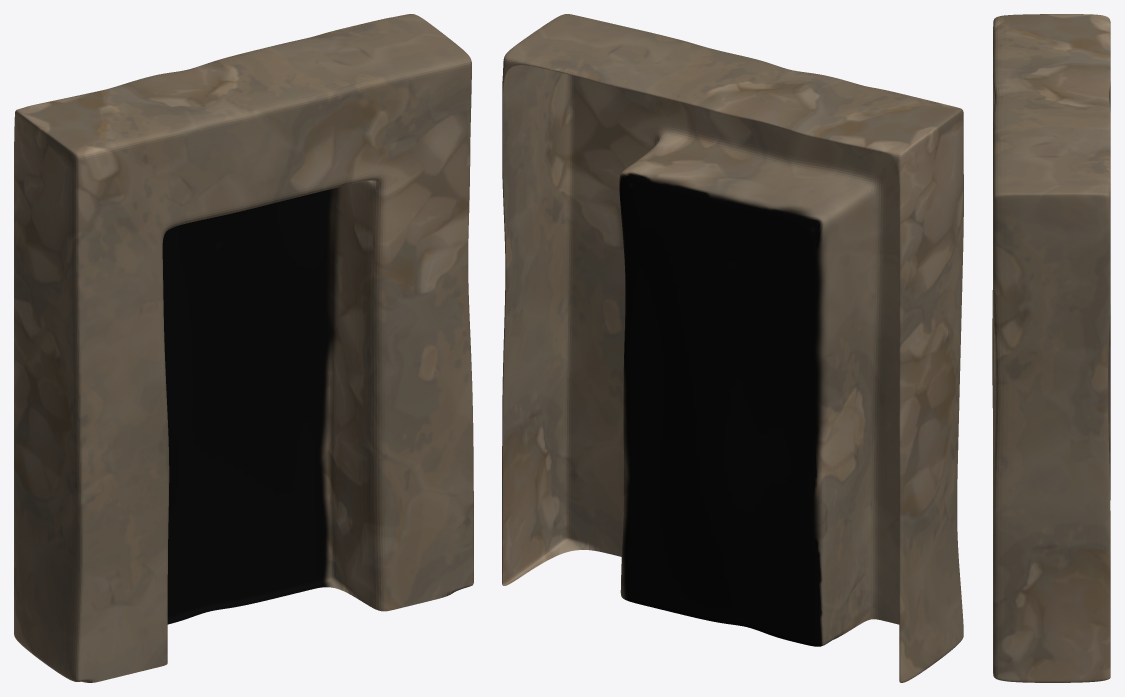
The model's file is Cadre_Porte.fbx.
3 views of the same model, side by side, from view 1: azimuth 30°, elevation 25°; view 2: azimuth 150°, elevation 25°; view 3: azimuth 270°, elevation 25° (orthographic). The views are drawn at different scales.
Parts seen in each view (by area): view 1: CadrePorte; view 2: CadrePorte; view 3: CadrePorte.
Part boxes in pixels (left/top/right/bottom): CadrePorte: left=14, top=14, right=473, bottom=682; CadrePorte: left=502, top=14, right=963, bottom=682; CadrePorte: left=992, top=14, right=1110, bottom=682.
Bounding box in the file's own units: 727 × 921 × 201.
